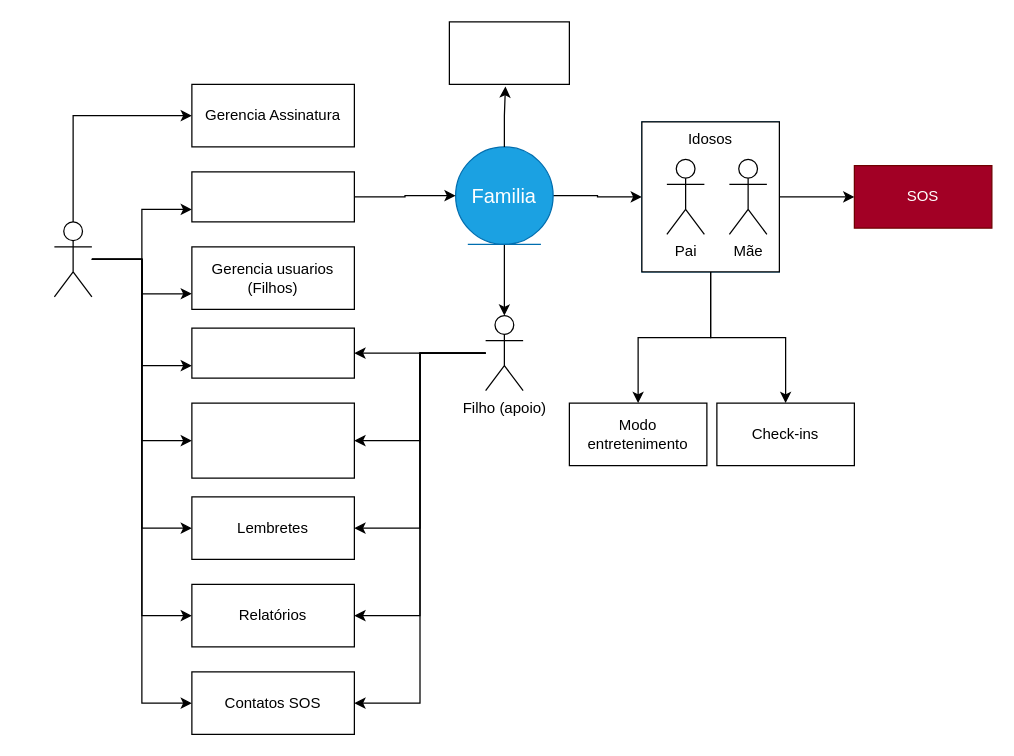
Image size: 1014x756. Some labels were removed from this diagram. Here are the shapes that lost their labels. From the top down, the centre of each, then its label:
(508,52): Uso de IA
(272,196): Cria familia
(72,259): Filho (Principal)
(272,352): Gerencia idosos
(272,440): Registro de consultas, sintomas e ...
